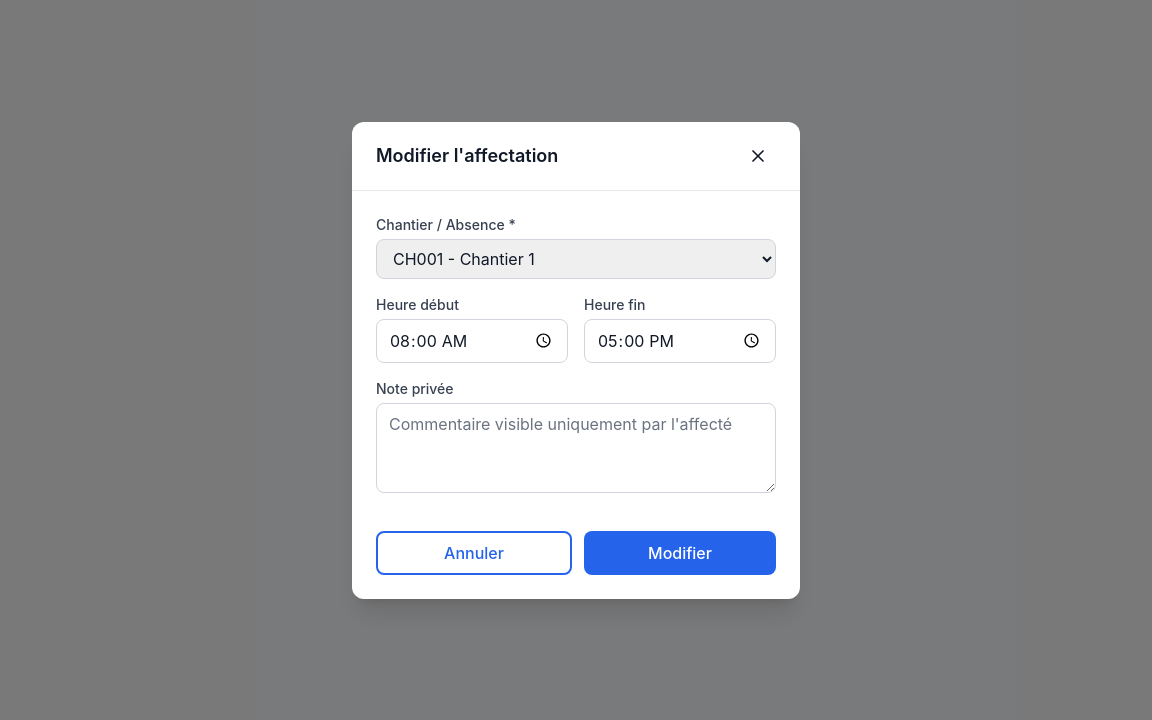
Test: AffectationModal › Soumission du formulaire › affiche le texte de chargement pendant la soumission
This screenshot has width=1152, height=720.
Click the button "Modifier".
click(680, 552)  # box [584,530,776,574]
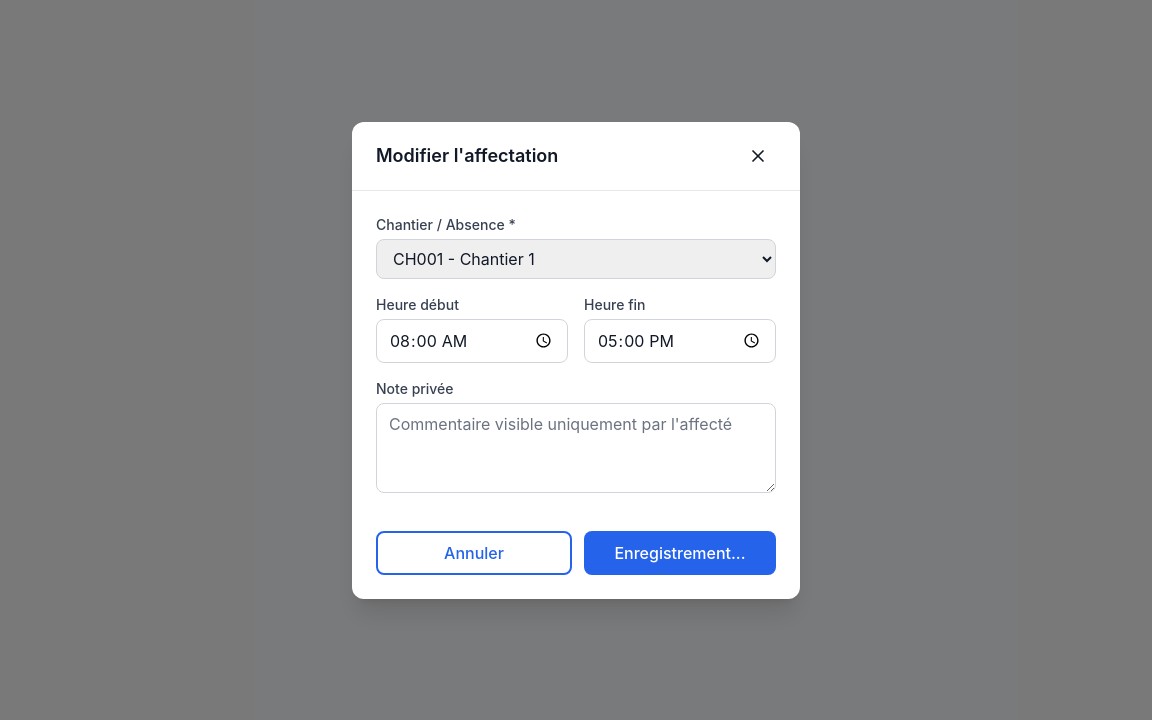
Check: the button "Enregistrement..." is shown, box [584,530,776,574]
